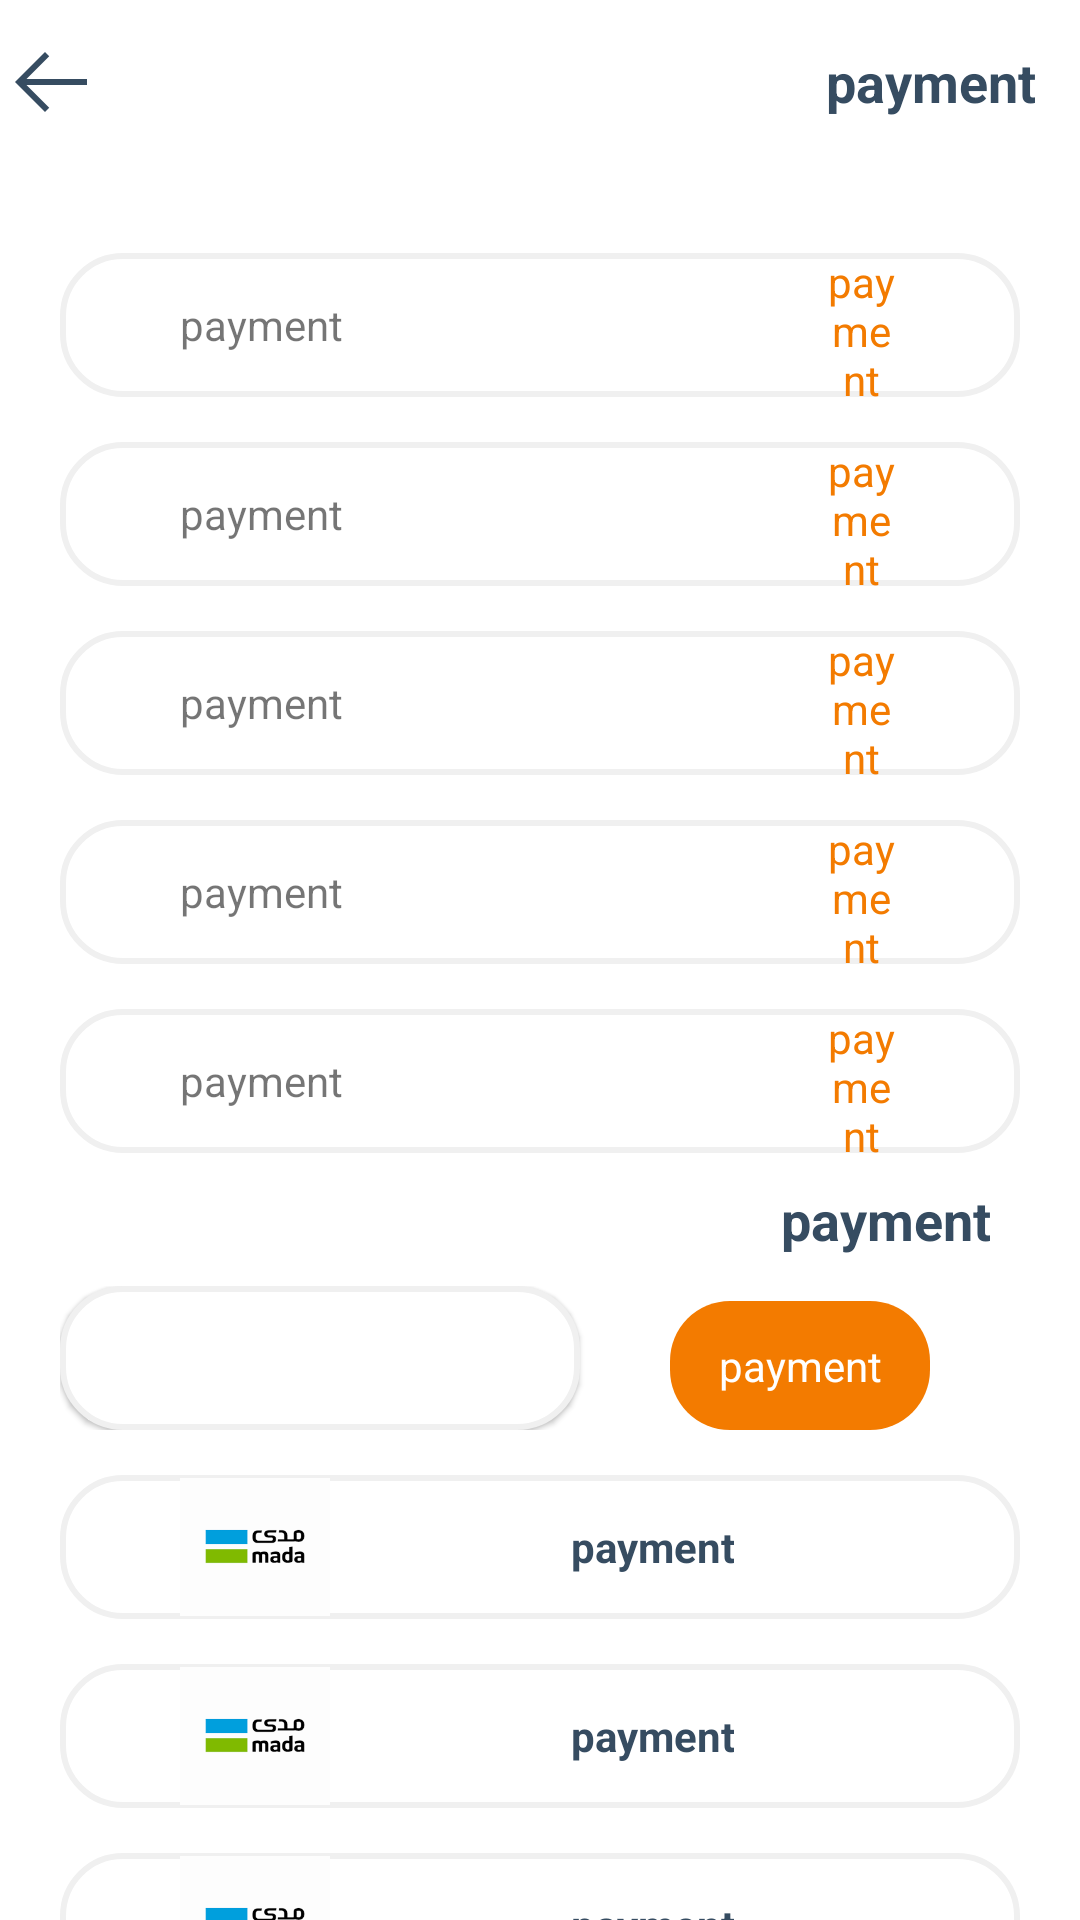

Icon bounding boxes for this 1080px x 1920px phone screenshot, format BBox(x1, y1, x2, y2):
back: BBox(15, 52, 87, 112)
